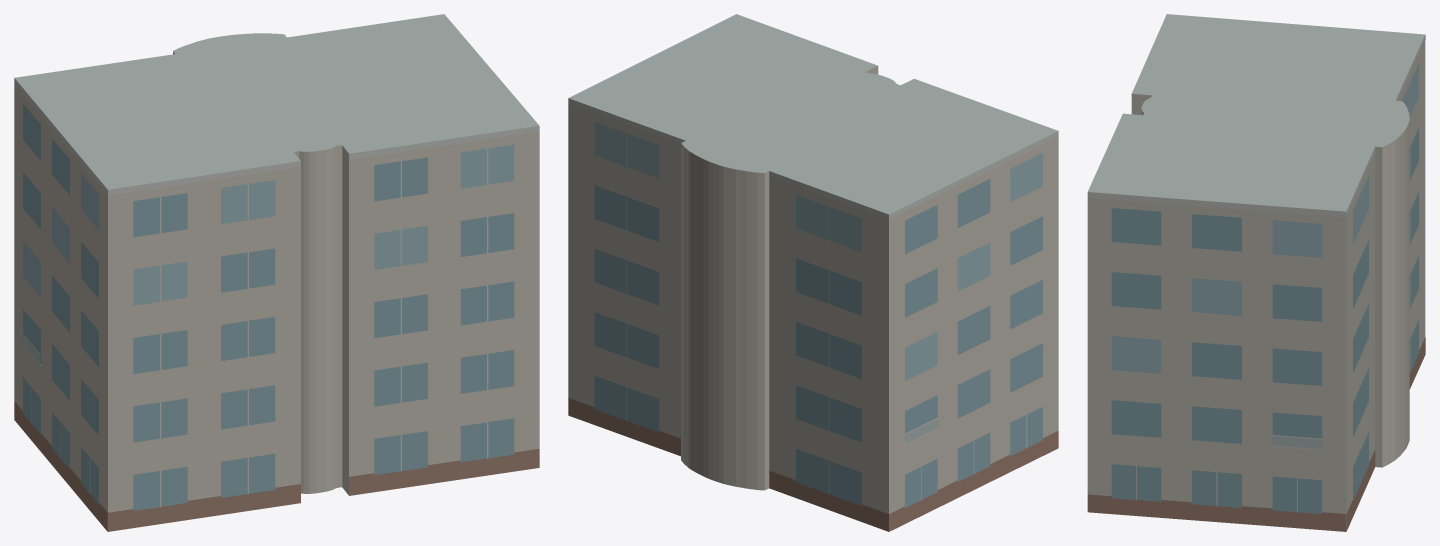
Rendered from survey-upis-32979968.glb.
The picture shows the model from 3 angles, left to right: view 1: azimuth 30°, elevation 25°; view 2: azimuth 150°, elevation 25°; view 3: azimuth 270°, elevation 25°; orthographic projection. The views are drawn at different scales.
Visible parts, largest first — view 1: survey-upis-32979968.tmp; view 2: survey-upis-32979968.tmp; view 3: survey-upis-32979968.tmp.
Boxes of the visible parts, x1,y1,x2,y2 form: survey-upis-32979968.tmp: (14,14,539,531); survey-upis-32979968.tmp: (568,14,1058,531); survey-upis-32979968.tmp: (1087,14,1425,531).
Size of the model in its own units: 18.67 by 14.1 by 13.49.
